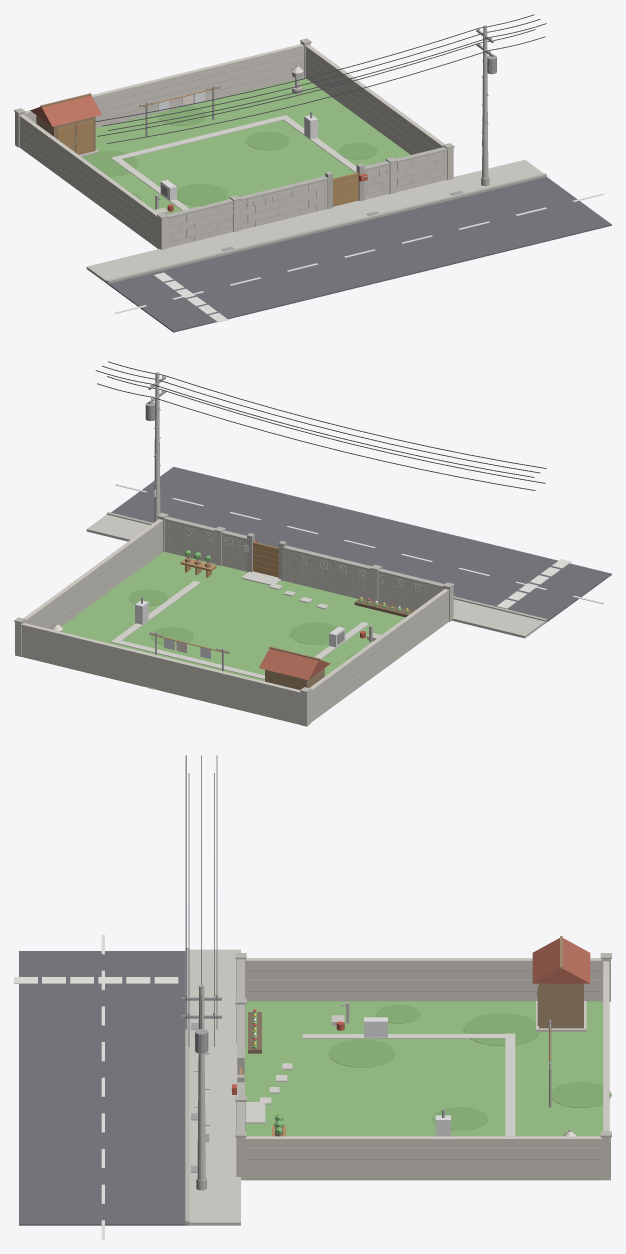
The model's file is environment.glb.
The picture shows the model from 3 angles, top to bottom: view 1: azimuth 30°, elevation 25°; view 2: azimuth 150°, elevation 25°; view 3: azimuth 270°, elevation 25°; orthographic projection. The views are drawn at different scales.
Parts seen in each view (by area): view 1: road, lantern_cap, yard, sidewalk, gate_post_l, lawn_patch_0, wire_0_0_a, joint_h_back_1, gate_apron, bonsai_bench, nameplate, shed_roof (+4 smaller); view 2: lantern_cap, road, yard, wire_0_0_a, joint_h_back_1, sidewalk, gate_post_l, gate_apron, lawn_patch_0, nameplate, shed_roof, bonsai_bench (+4 smaller); view 3: road, yard, lantern_cap, sidewalk, lawn_patch_0, gate_post_l, joint_h_back_1, gate_apron, shed_roof, shed_door_frame_0, wire_0_0_a, nameplate (+3 smaller).
Part boxes in pixels (x1,y1,x2,y2): road: (108,177,611,332); lantern_cap: (15,42,453,249); yard: (95,77,410,213); sidewalk: (86,159,543,283); gate_post_l: (14,38,546,284); lawn_patch_0: (82,105,377,205); wire_0_0_a: (95,14,546,143); joint_h_back_1: (19,53,446,244); gate_apron: (111,115,356,210); bonsai_bench: (57,87,358,206); nameplate: (115,139,604,322); shed_roof: (30,95,101,126); lantern_cap: (15,517,453,726); road: (111,466,611,621); yard: (21,552,405,724); wire_0_0_a: (95,361,546,490); joint_h_back_1: (21,521,448,716); sidewalk: (86,514,545,638); gate_post_l: (14,512,546,692); gate_apron: (111,571,368,679); lawn_patch_0: (128,589,357,689); nameplate: (115,484,604,608); shed_roof: (259,648,330,679); bonsai_bench: (149,542,278,653); road: (19,951,187,1225); yard: (244,1001,602,1180); lantern_cap: (236,958,610,1180); sidewalk: (187,949,240,1225); lawn_patch_0: (328,1004,611,1130); gate_post_l: (185,948,611,1225); joint_h_back_1: (245,970,609,1169); gate_apron: (245,1033,515,1136); shed_roof: (532,938,590,983); shed_door_frame_0: (537,936,583,1028); wire_0_0_a: (185,755,217,1046); nameplate: (14,935,209,1239).
Bounding box in the file's own units: 25.6 × 8.13 × 21.28.
